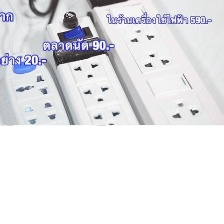three_eye_plug: (87, 0, 224, 152), (39, 6, 147, 152), (0, 46, 81, 152)
